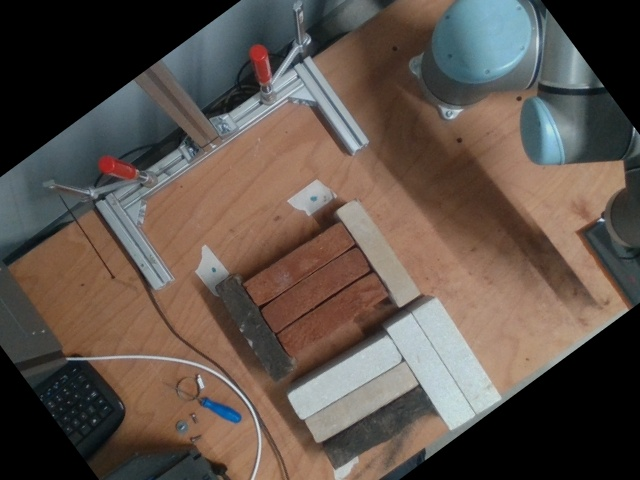brick-side: (413, 298, 499, 412), (276, 271, 389, 357), (258, 247, 371, 333), (242, 222, 355, 308), (334, 198, 421, 309), (388, 316, 473, 429), (287, 337, 402, 420), (304, 360, 419, 443), (321, 387, 436, 470), (213, 273, 296, 383)
